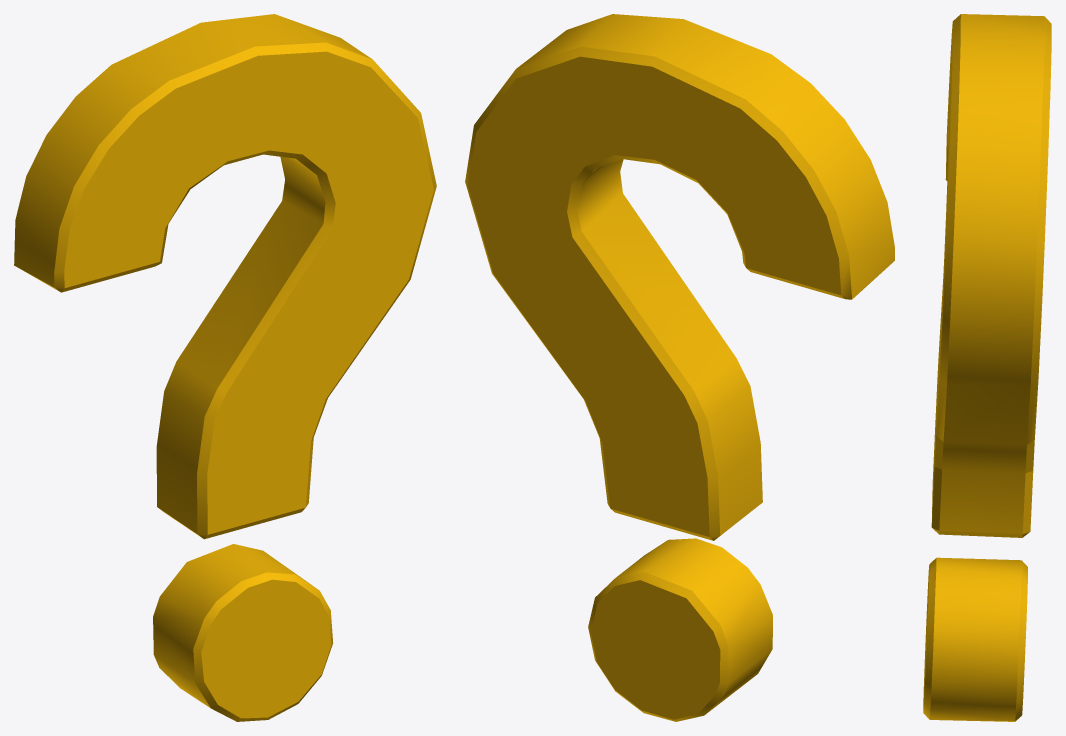
Rendered from Simbol_Question.FBX.
The picture shows the model from 3 angles, left to right: view 1: azimuth 30°, elevation 25°; view 2: azimuth 150°, elevation 25°; view 3: azimuth 270°, elevation 25°; orthographic projection. The views are drawn at different scales.
Visible parts, largest first — view 1: Simbol_Question; view 2: Simbol_Question; view 3: Simbol_Question.
Boxes of the visible parts, left/top/right/bottom form: Simbol_Question: left=14, top=14, right=436, bottom=721; Simbol_Question: left=465, top=14, right=894, bottom=721; Simbol_Question: left=923, top=14, right=1051, bottom=721.
Size of the model in its own units: 28 by 46.54 by 8.04.
